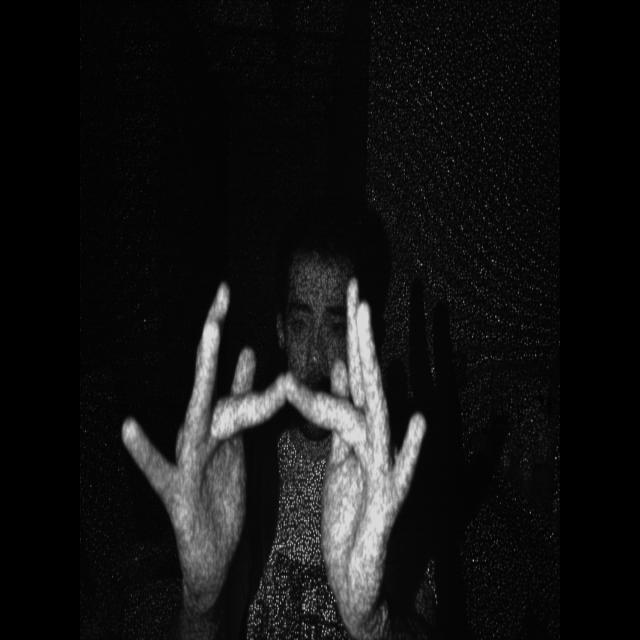REACH: (113, 261, 439, 638)
